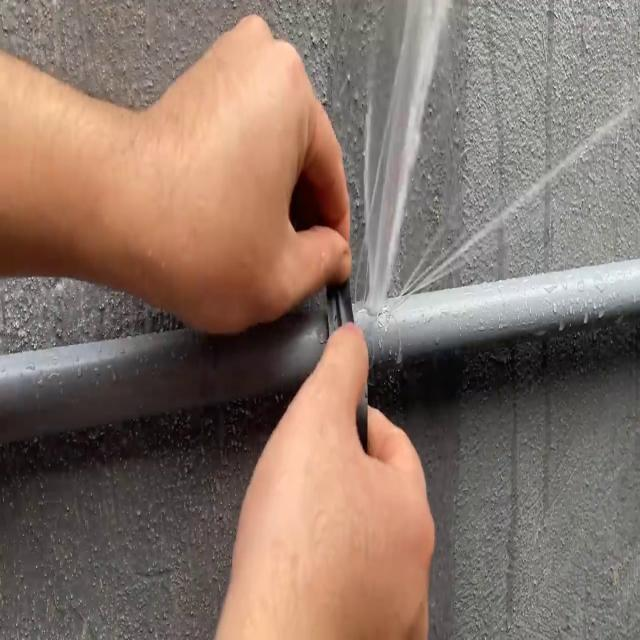leak: (364, 0, 455, 312)
